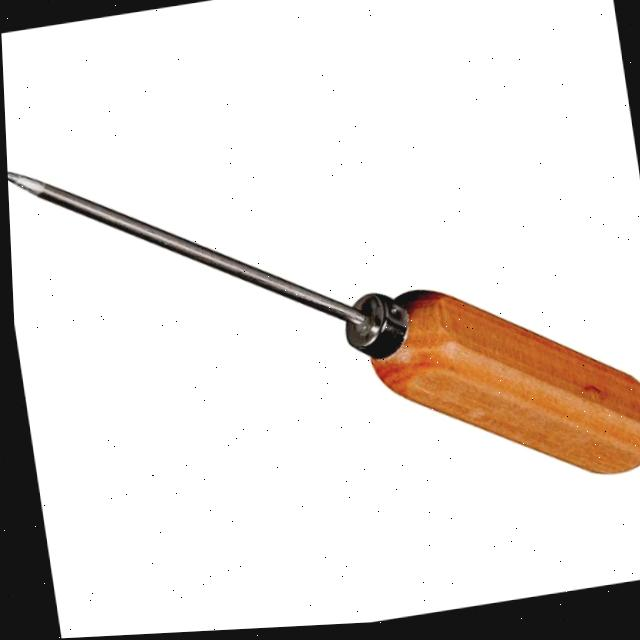ice pick: (3, 74, 640, 567)
